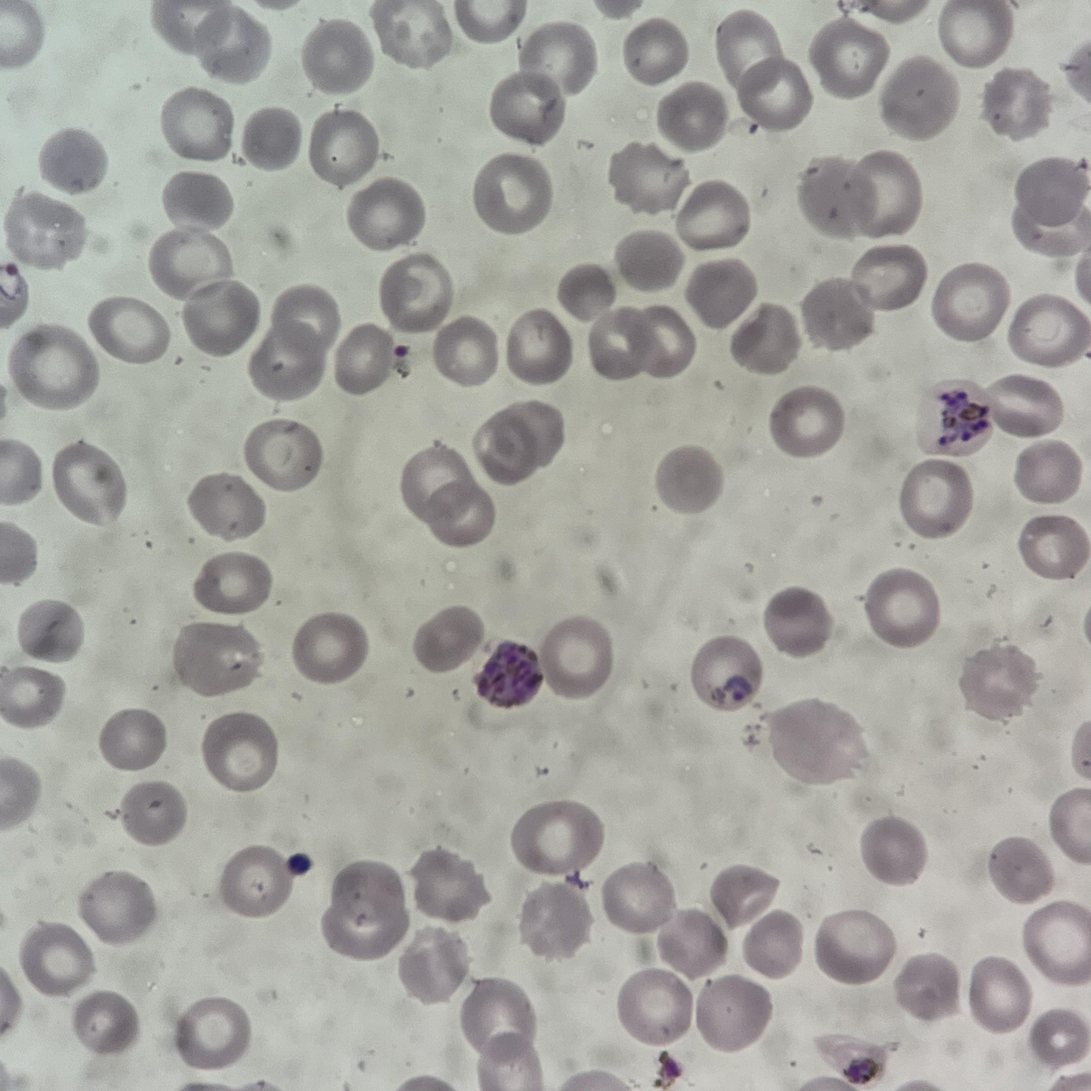Infected: (95, 633, 173, 710), (328, 380, 402, 455), (547, 382, 617, 449), (194, 3, 273, 56)
Uninfected: (171, 850, 290, 941), (595, 541, 693, 647), (221, 306, 326, 393), (680, 130, 768, 227), (396, 710, 500, 787), (990, 679, 1079, 767), (525, 608, 615, 691), (758, 689, 844, 775), (200, 993, 283, 1077), (130, 950, 212, 1035), (827, 394, 917, 470), (1003, 820, 1086, 900), (49, 368, 132, 447), (599, 166, 683, 244), (489, 219, 582, 289), (829, 734, 911, 813), (536, 857, 616, 937), (963, 566, 1041, 648), (0, 722, 83, 799), (193, 105, 277, 181), (854, 789, 941, 862), (79, 749, 159, 828), (317, 38, 398, 116), (277, 959, 358, 1036), (149, 443, 228, 521), (811, 299, 889, 377), (523, 943, 601, 1021), (330, 761, 409, 838), (496, 128, 573, 207), (476, 393, 552, 473), (399, 874, 481, 948), (637, 758, 714, 836), (709, 903, 784, 982), (0, 105, 70, 189), (398, 44, 475, 120), (554, 36, 630, 113), (663, 839, 742, 913), (117, 552, 190, 632), (216, 740, 292, 816), (820, 1007, 895, 1084), (1, 860, 79, 934), (493, 994, 570, 1068), (934, 147, 1012, 220), (716, 996, 789, 1073), (824, 547, 903, 618), (768, 601, 848, 671), (25, 653, 107, 721), (996, 94, 1070, 169), (795, 172, 871, 245), (839, 20, 915, 93), (721, 407, 799, 478), (245, 633, 321, 705), (339, 840, 416, 911), (620, 86, 693, 160), (361, 937, 436, 1009), (920, 727, 1000, 794), (414, 157, 490, 227), (38, 948, 108, 1024), (162, 779, 239, 848), (637, 1021, 714, 1090), (856, 929, 930, 1000), (76, 1021, 151, 1091), (517, 706, 587, 780), (163, 203, 233, 277), (289, 715, 360, 787), (363, 109, 434, 181), (256, 433, 328, 503), (365, 577, 437, 646), (855, 856, 931, 921), (818, 477, 897, 539), (1, 510, 73, 578), (403, 797, 477, 863), (58, 56, 123, 131), (129, 67, 198, 137), (401, 1004, 470, 1074), (306, 1011, 375, 1080), (36, 185, 104, 255), (6, 586, 77, 653), (310, 160, 381, 227), (608, 417, 678, 484), (983, 896, 1053, 963), (591, 704, 657, 774), (749, 742, 821, 806), (904, 244, 973, 310), (694, 695, 758, 766), (786, 919, 852, 986), (1005, 428, 1073, 493), (924, 320, 993, 384), (1025, 361, 1091, 426), (286, 111, 349, 179), (952, 35, 1017, 99), (869, 1035, 941, 1091), (1, 22, 63, 83), (474, 767, 535, 827), (548, 1, 614, 52), (0, 225, 43, 303), (1048, 583, 1091, 651), (463, 486, 513, 531)
